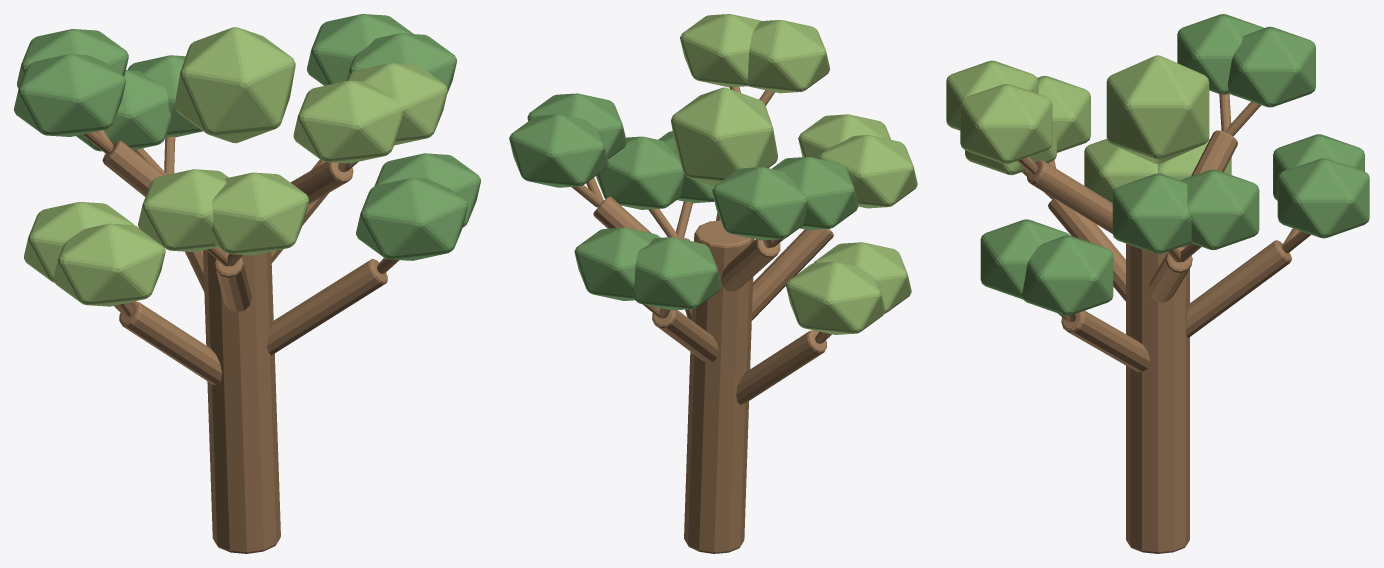
Rendered from prop-oak.glb.
3 views of the same model, side by side, from view 1: azimuth 30°, elevation 25°; view 2: azimuth 150°, elevation 25°; view 3: azimuth 270°, elevation 25° (orthographic). The views are drawn at different scales.
Visible parts, largest first — view 1: Leaf light, Leaf green, Aged oak; view 2: Leaf green, Leaf light, Aged oak; view 3: Leaf green, Aged oak, Leaf light.
Boxes of the visible parts, x1=… form: Leaf light: x1=24, y1=27, x2=447, y2=306; Leaf green: x1=14, y1=14, x2=480, y2=260; Aged oak: x1=82, y1=130, x2=399, y2=553; Leaf green: x1=509, y1=93, x2=858, y2=310; Leaf light: x1=671, y1=14, x2=917, y2=334; Aged oak: x1=571, y1=86, x2=833, y2=553; Leaf green: x1=980, y1=14, x2=1369, y2=315; Aged oak: x1=1017, y1=93, x2=1310, y2=553; Leaf light: x1=946, y1=55, x2=1231, y2=202.
Bounding box in the file's own units: 3.45 × 4.21 × 3.32.
